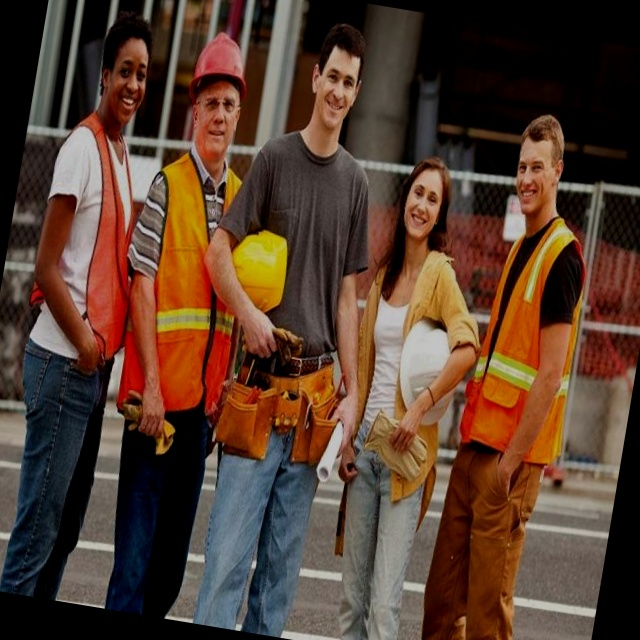goggles: (430, 105, 490, 148)
helmet: (428, 51, 488, 127)
vest: (63, 191, 168, 443), (523, 158, 610, 392), (428, 184, 500, 428)
